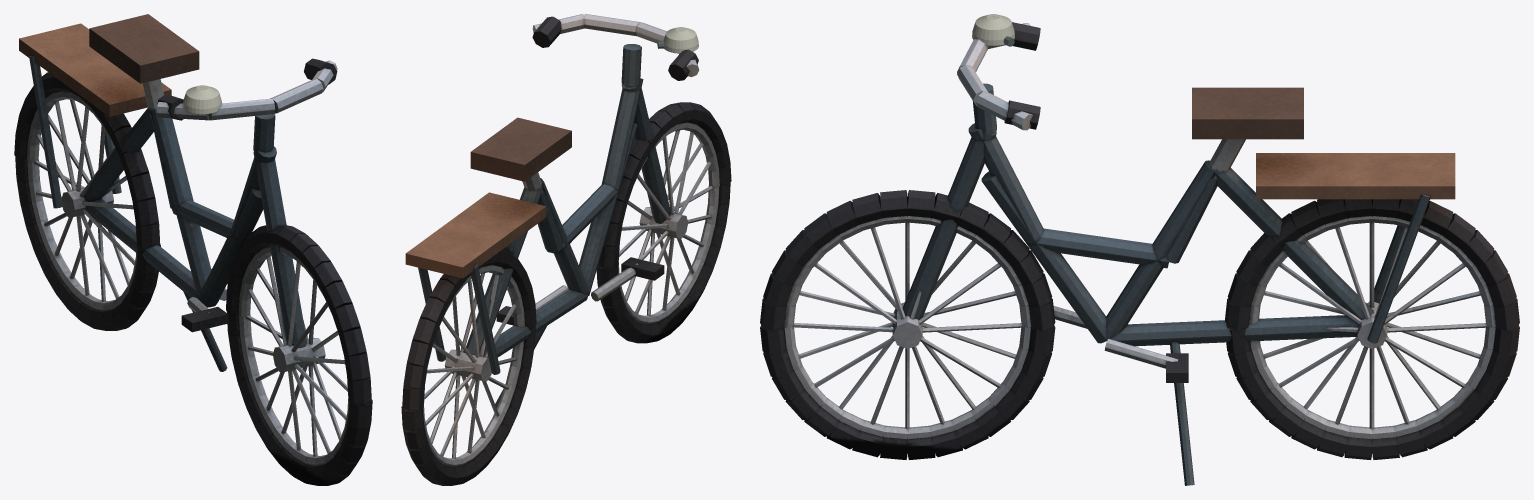
File: bicycle.glb
3 views of the same model, side by side, from view 1: azimuth 30°, elevation 25°; view 2: azimuth 150°, elevation 25°; view 3: azimuth 270°, elevation 25° (orthographic). The views are drawn at different scales.
Parts seen in each view (by area): view 1: BicycleFrame, BellCap; view 2: BicycleFrame, BellCap; view 3: BicycleFrame, BellCap.
Part boxes in pixels (<box>): BicycleFrame: <box>14,14,372,485</box>; BellCap: <box>183,85,221,114</box>; BicycleFrame: <box>401,14,731,485</box>; BellCap: <box>657,27,698,53</box>; BicycleFrame: <box>760,22,1519,485</box>; BellCap: <box>972,14,1014,46</box>.
Size of the model in its own units: 0.5533 by 1.1 by 1.83.
3 materials, 1 textured.
